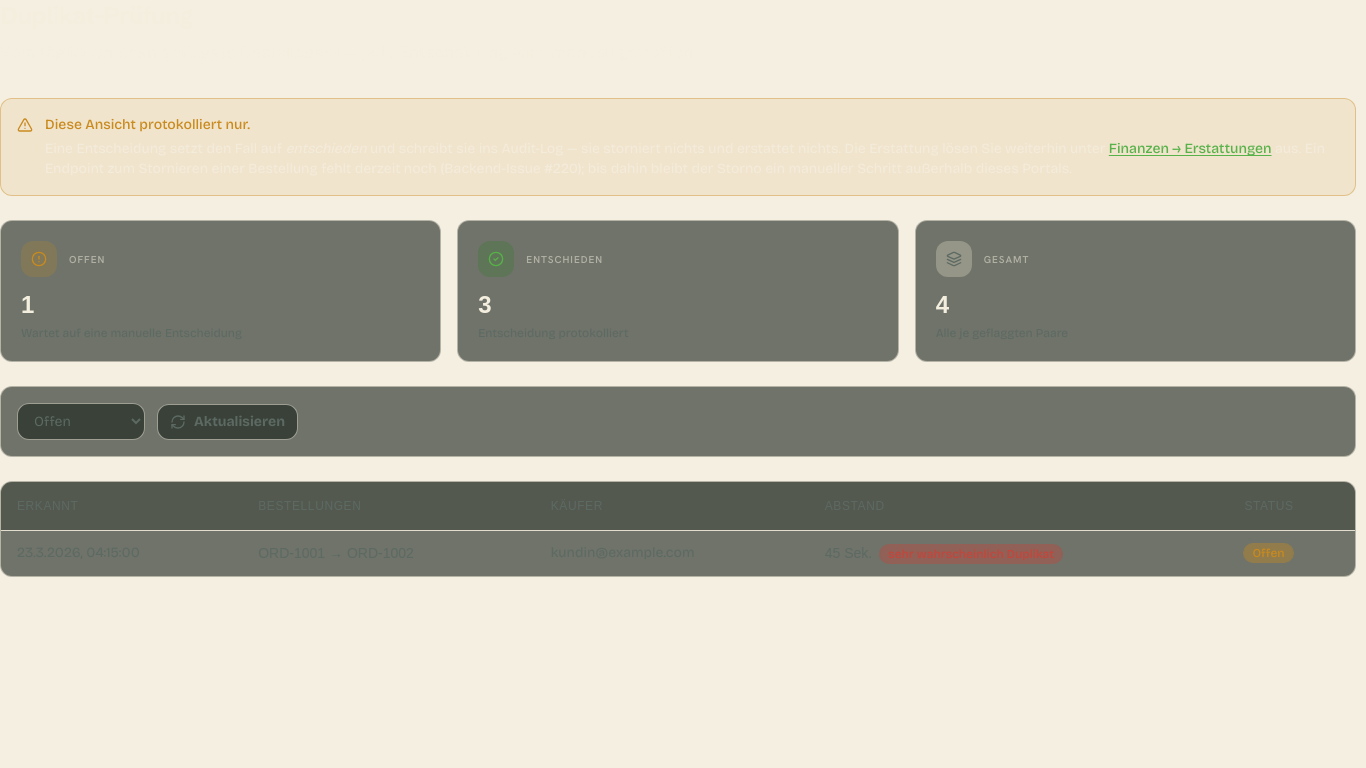
Test case: AdminOrderDuplicates › verweigert das Absenden ohne ausgewählte Entscheidung
This screenshot has width=1366, height=768.
Click the text "ORD-1001 → ORD-1002" at (678, 553), box [1,530,1355,576]
(page scrolled)
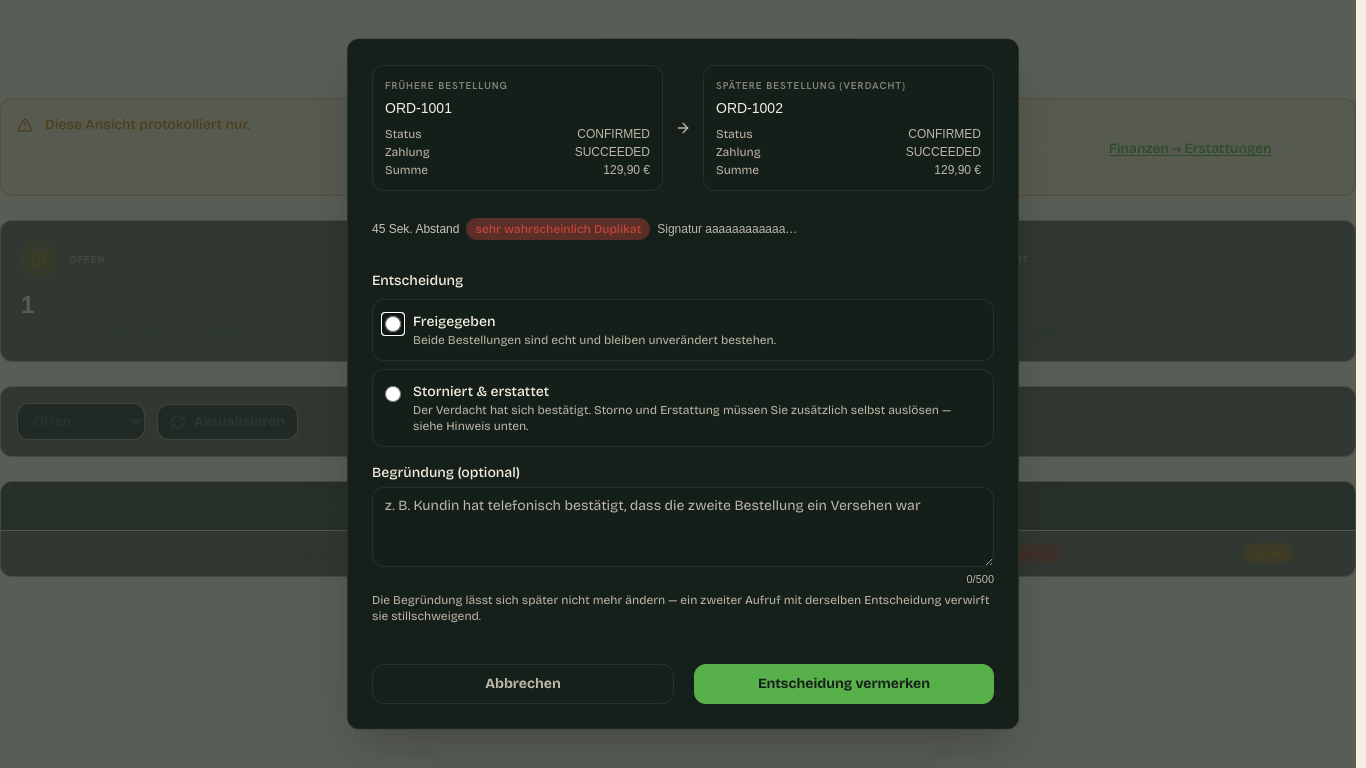
Click the button "Entscheidung vermerken" at (844, 684), box [694,664,994,704]
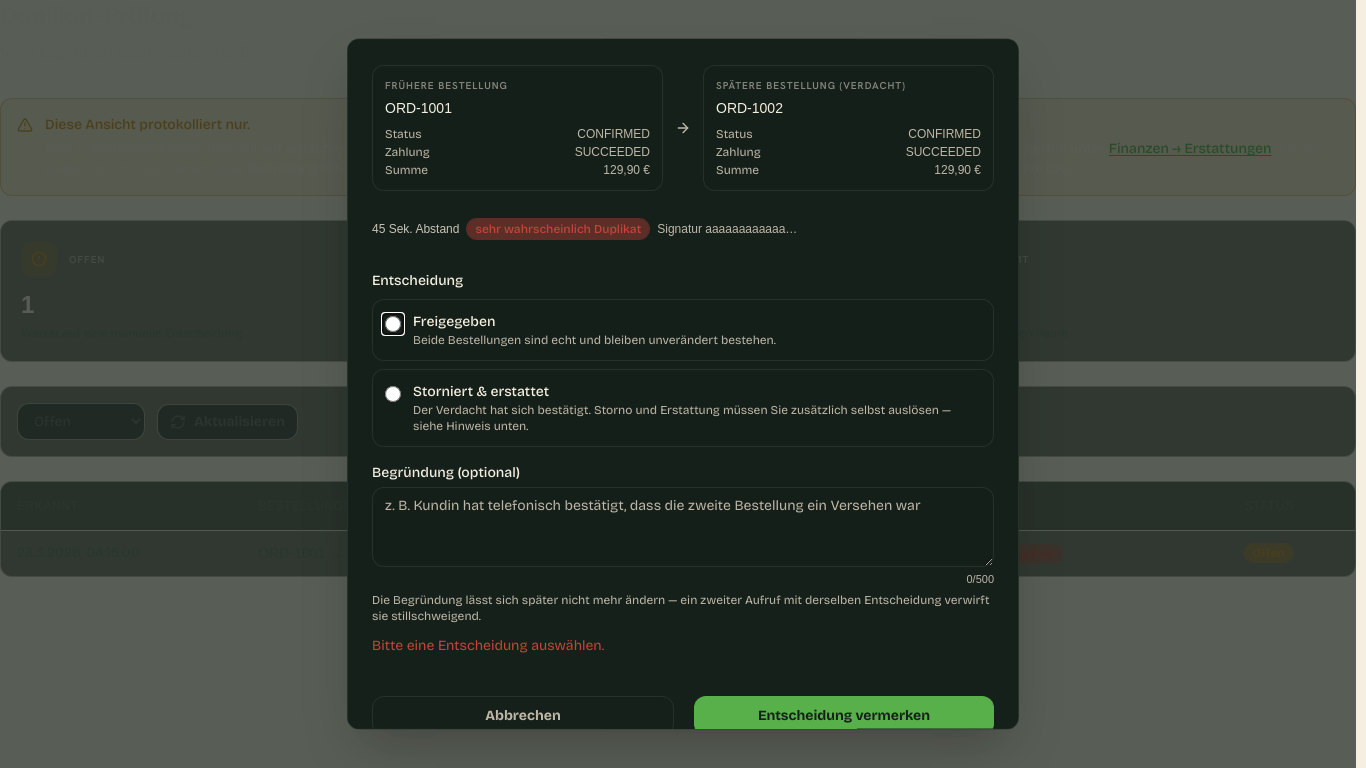
Now the text "Bitte eine Entscheidung auswählen." is shown, box [372,637,604,654]
